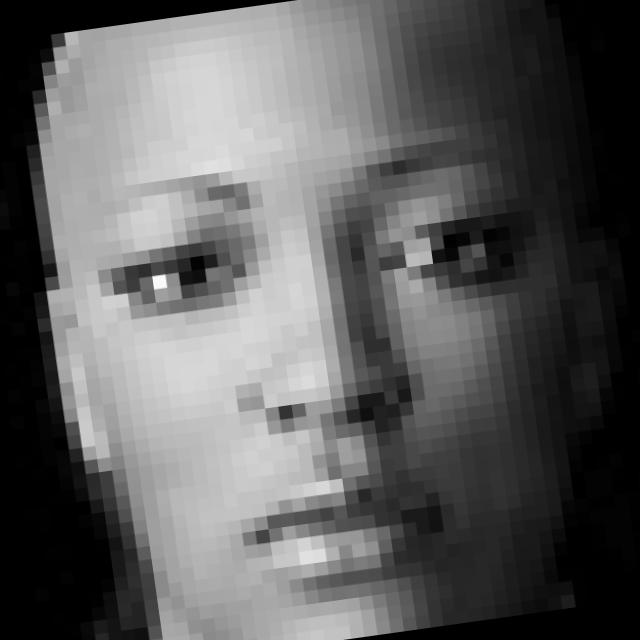neutral: (70, 111, 596, 628)
